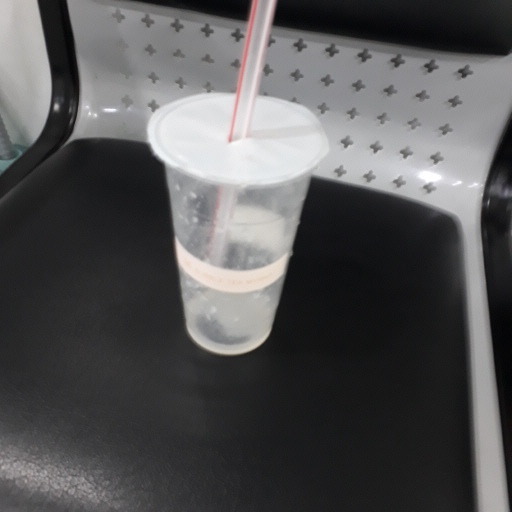Plastic_2: (146, 3, 329, 358)
